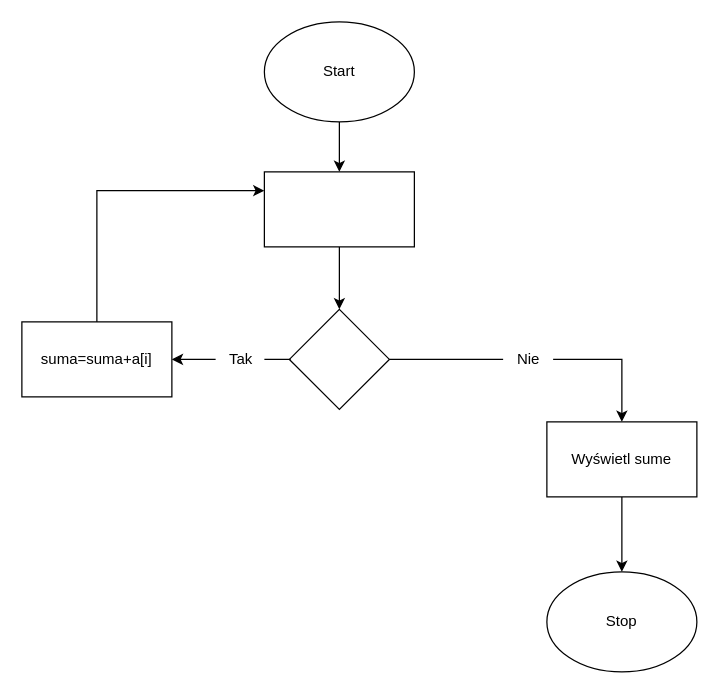
The diagram is 719 pixels wide and 694 high, and some of its shapes have lost their labels. The shapes that lost their labels are listed below. From the top down, each one's centre as x and y in pixels, then its label:
pixel 338 209: Pobierz a
pixel 338 358: i<a.długosc
